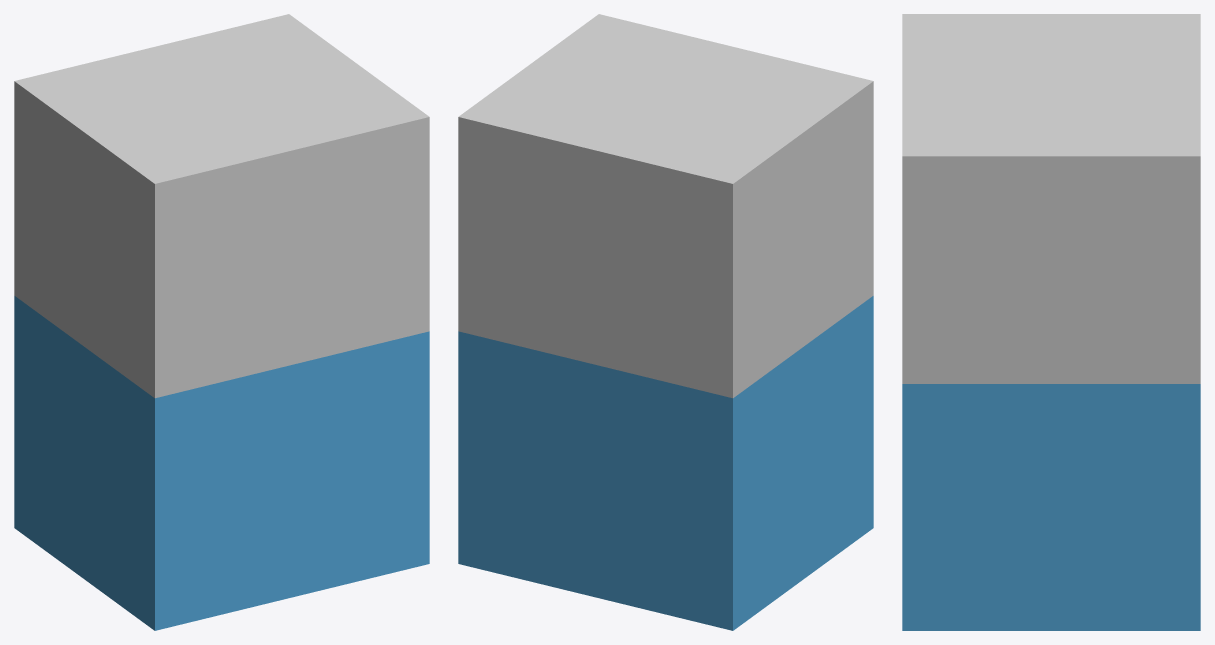
File: substance_2.glb
3 views of the same model, side by side, from view 1: azimuth 30°, elevation 25°; view 2: azimuth 150°, elevation 25°; view 3: azimuth 270°, elevation 25° (orthographic). The views are drawn at different scales.
Visible parts, largest first — view 1: Cube; view 2: Cube; view 3: Cube.
Part boxes in pixels (box(x1,y1,x2,y2)): Cube: box(14, 14, 429, 630); Cube: box(458, 14, 873, 630); Cube: box(902, 14, 1200, 630).
Bounding box in the file's own units: 0.1592 × 0.2474 × 0.1411.
